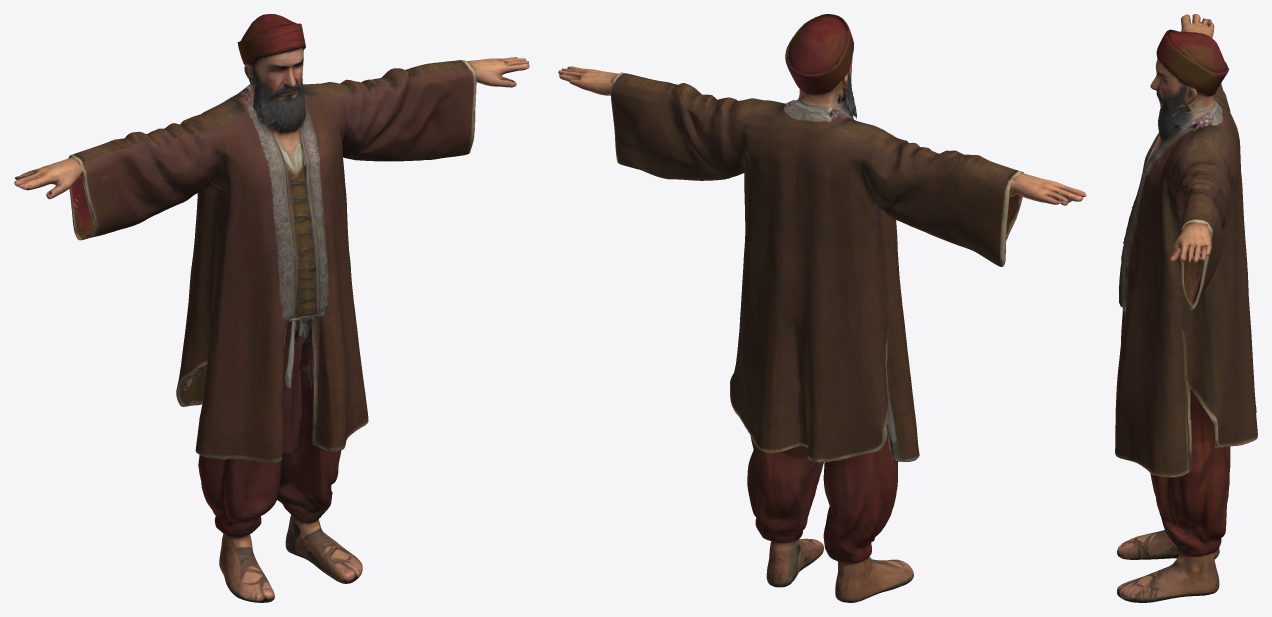
Rendered from turk_villiger_t-pose.glb.
3 views of the same model, side by side, from view 1: azimuth 30°, elevation 25°; view 2: azimuth 150°, elevation 25°; view 3: azimuth 270°, elevation 25° (orthographic). The views are drawn at different scales.
Parts seen in each view (by area): view 1: Object_4; view 2: Object_4; view 3: Object_4.
Boxes of the visible parts, left/top/right/bottom form: Object_4: left=14, top=14, right=529, bottom=602; Object_4: left=558, top=14, right=1086, bottom=602; Object_4: left=1115, top=14, right=1257, bottom=602.
Size of the model in its own units: 1.94 by 2 by 0.4768.
Materials: 1 (1 with a texture image).
